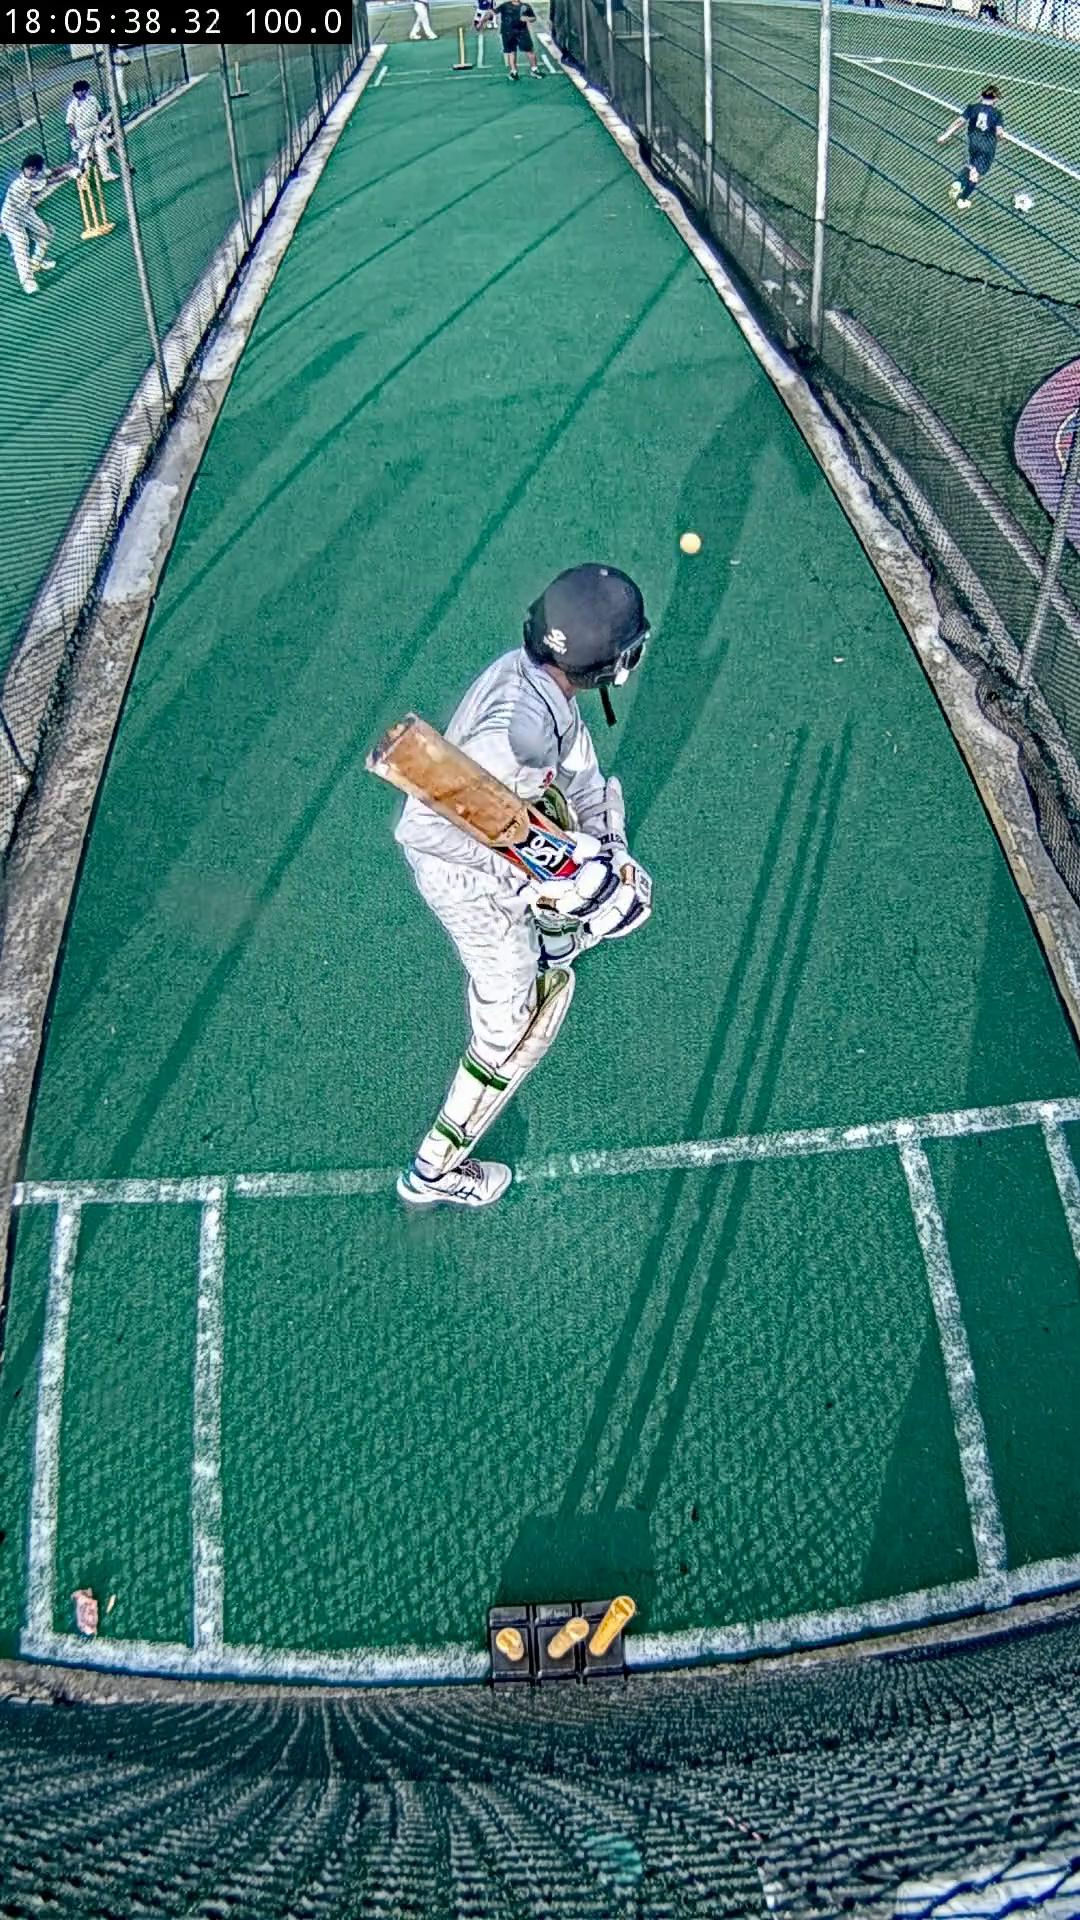ball: (679, 533, 702, 555)
bat: (368, 712, 578, 881)
gloves: (521, 832, 653, 955)
helmet: (525, 563, 649, 703)
pads: (462, 968, 574, 1139)
stumps: (488, 1594, 637, 1681)
